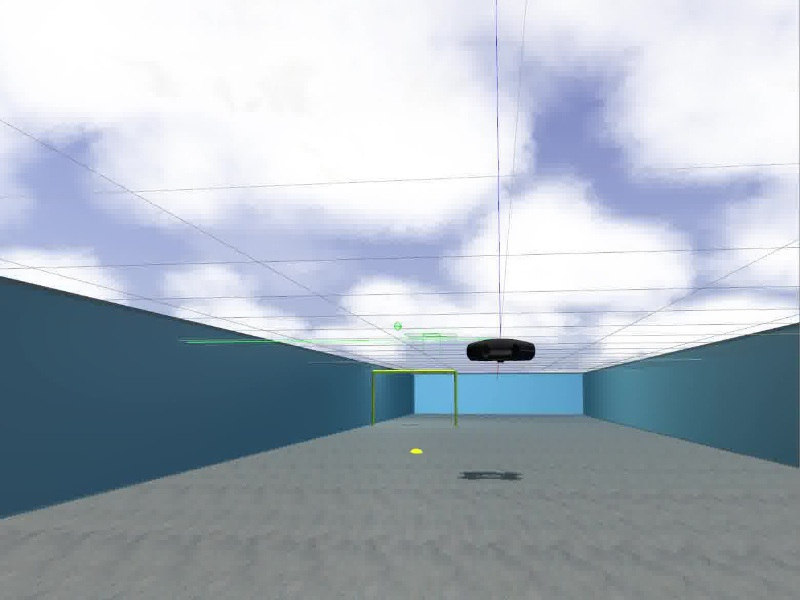gate: (369, 367, 459, 426)
